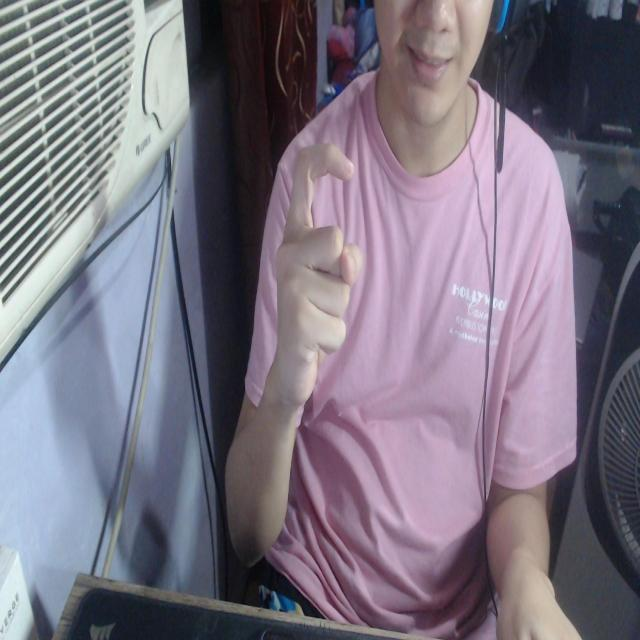X: (274, 139, 364, 406)
